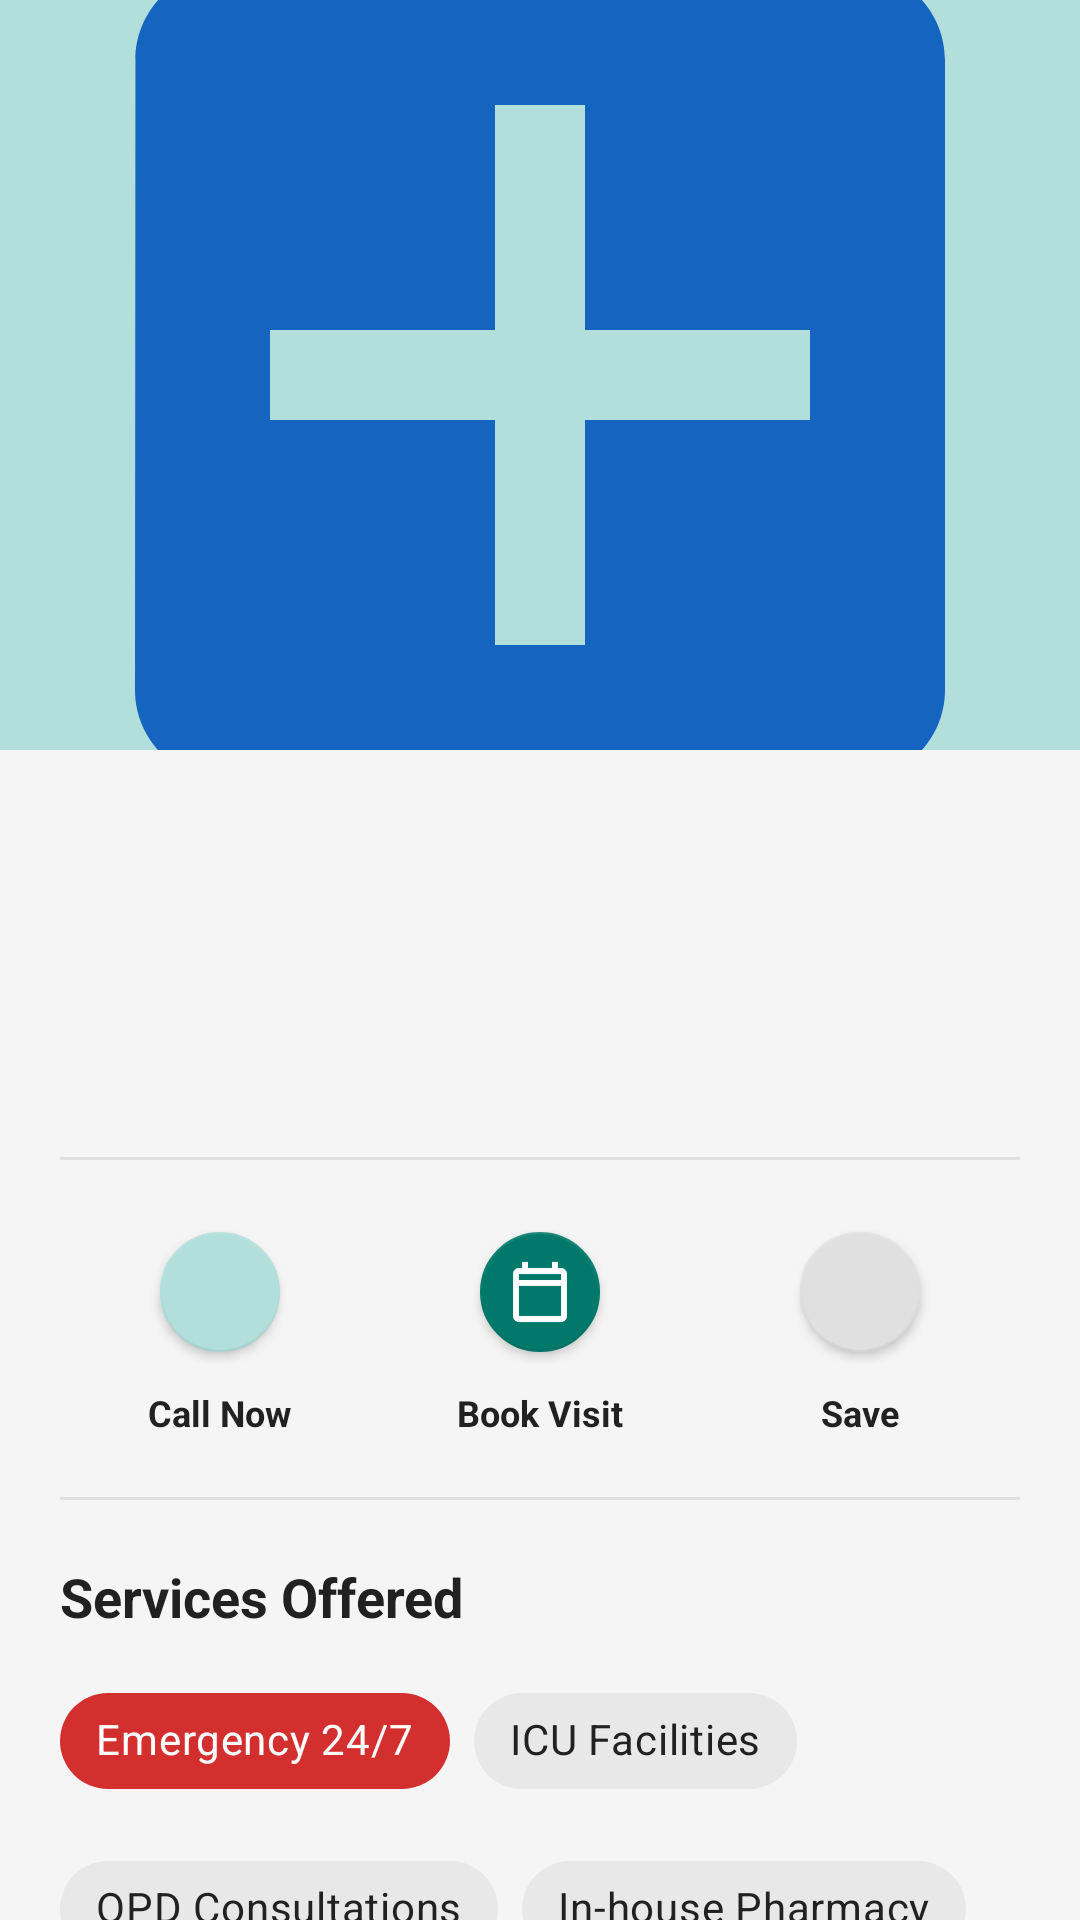

Where icons sit on this 1080 x 1920 app screen, as (x1, y1, x2, y2):
calendar: (480, 1232, 600, 1355)
